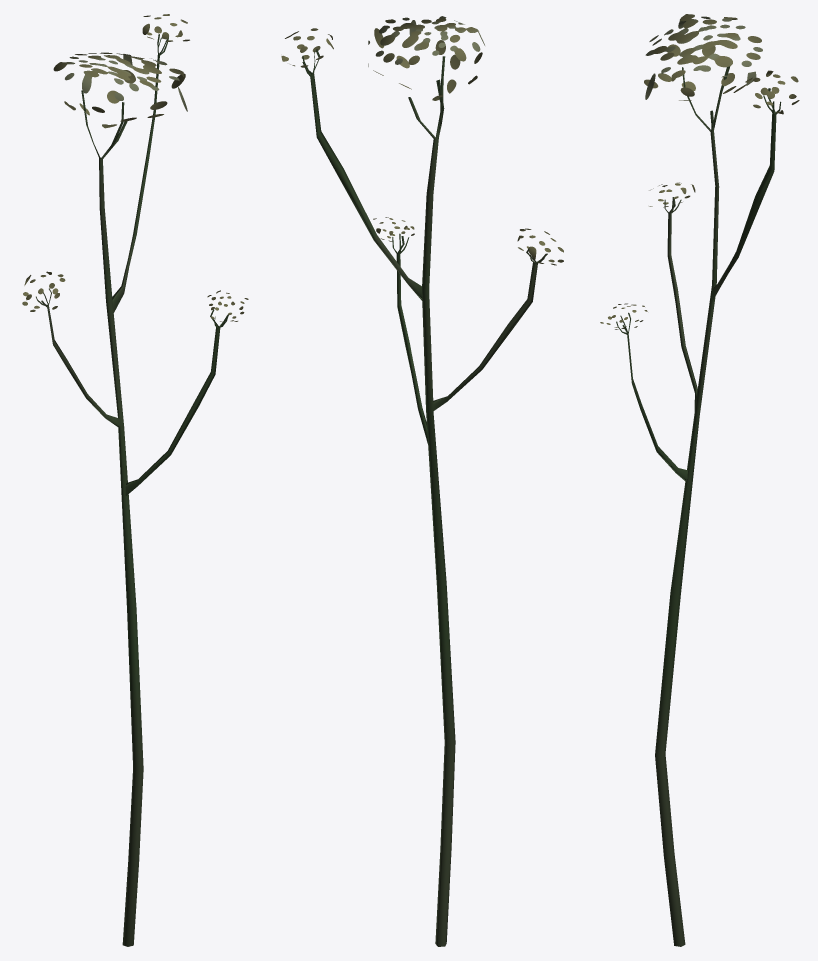
Rendered from Flowers.fbx.
The picture shows the model from 3 angles, left to right: view 1: azimuth 30°, elevation 25°; view 2: azimuth 150°, elevation 25°; view 3: azimuth 270°, elevation 25°; orthographic projection. The views are drawn at different scales.
Visible parts, largest first — view 1: Cylinder; view 2: Cylinder; view 3: Cylinder.
Part boxes in pixels (x1=…): Cylinder: x1=22, y1=14, x2=248, y2=946; Cylinder: x1=281, y1=16, x2=563, y2=946; Cylinder: x1=600, y1=14, x2=799, y2=946.
Bounding box in the file's own units: 79.33 × 298 × 61.33.
1 material, 1 textured.
